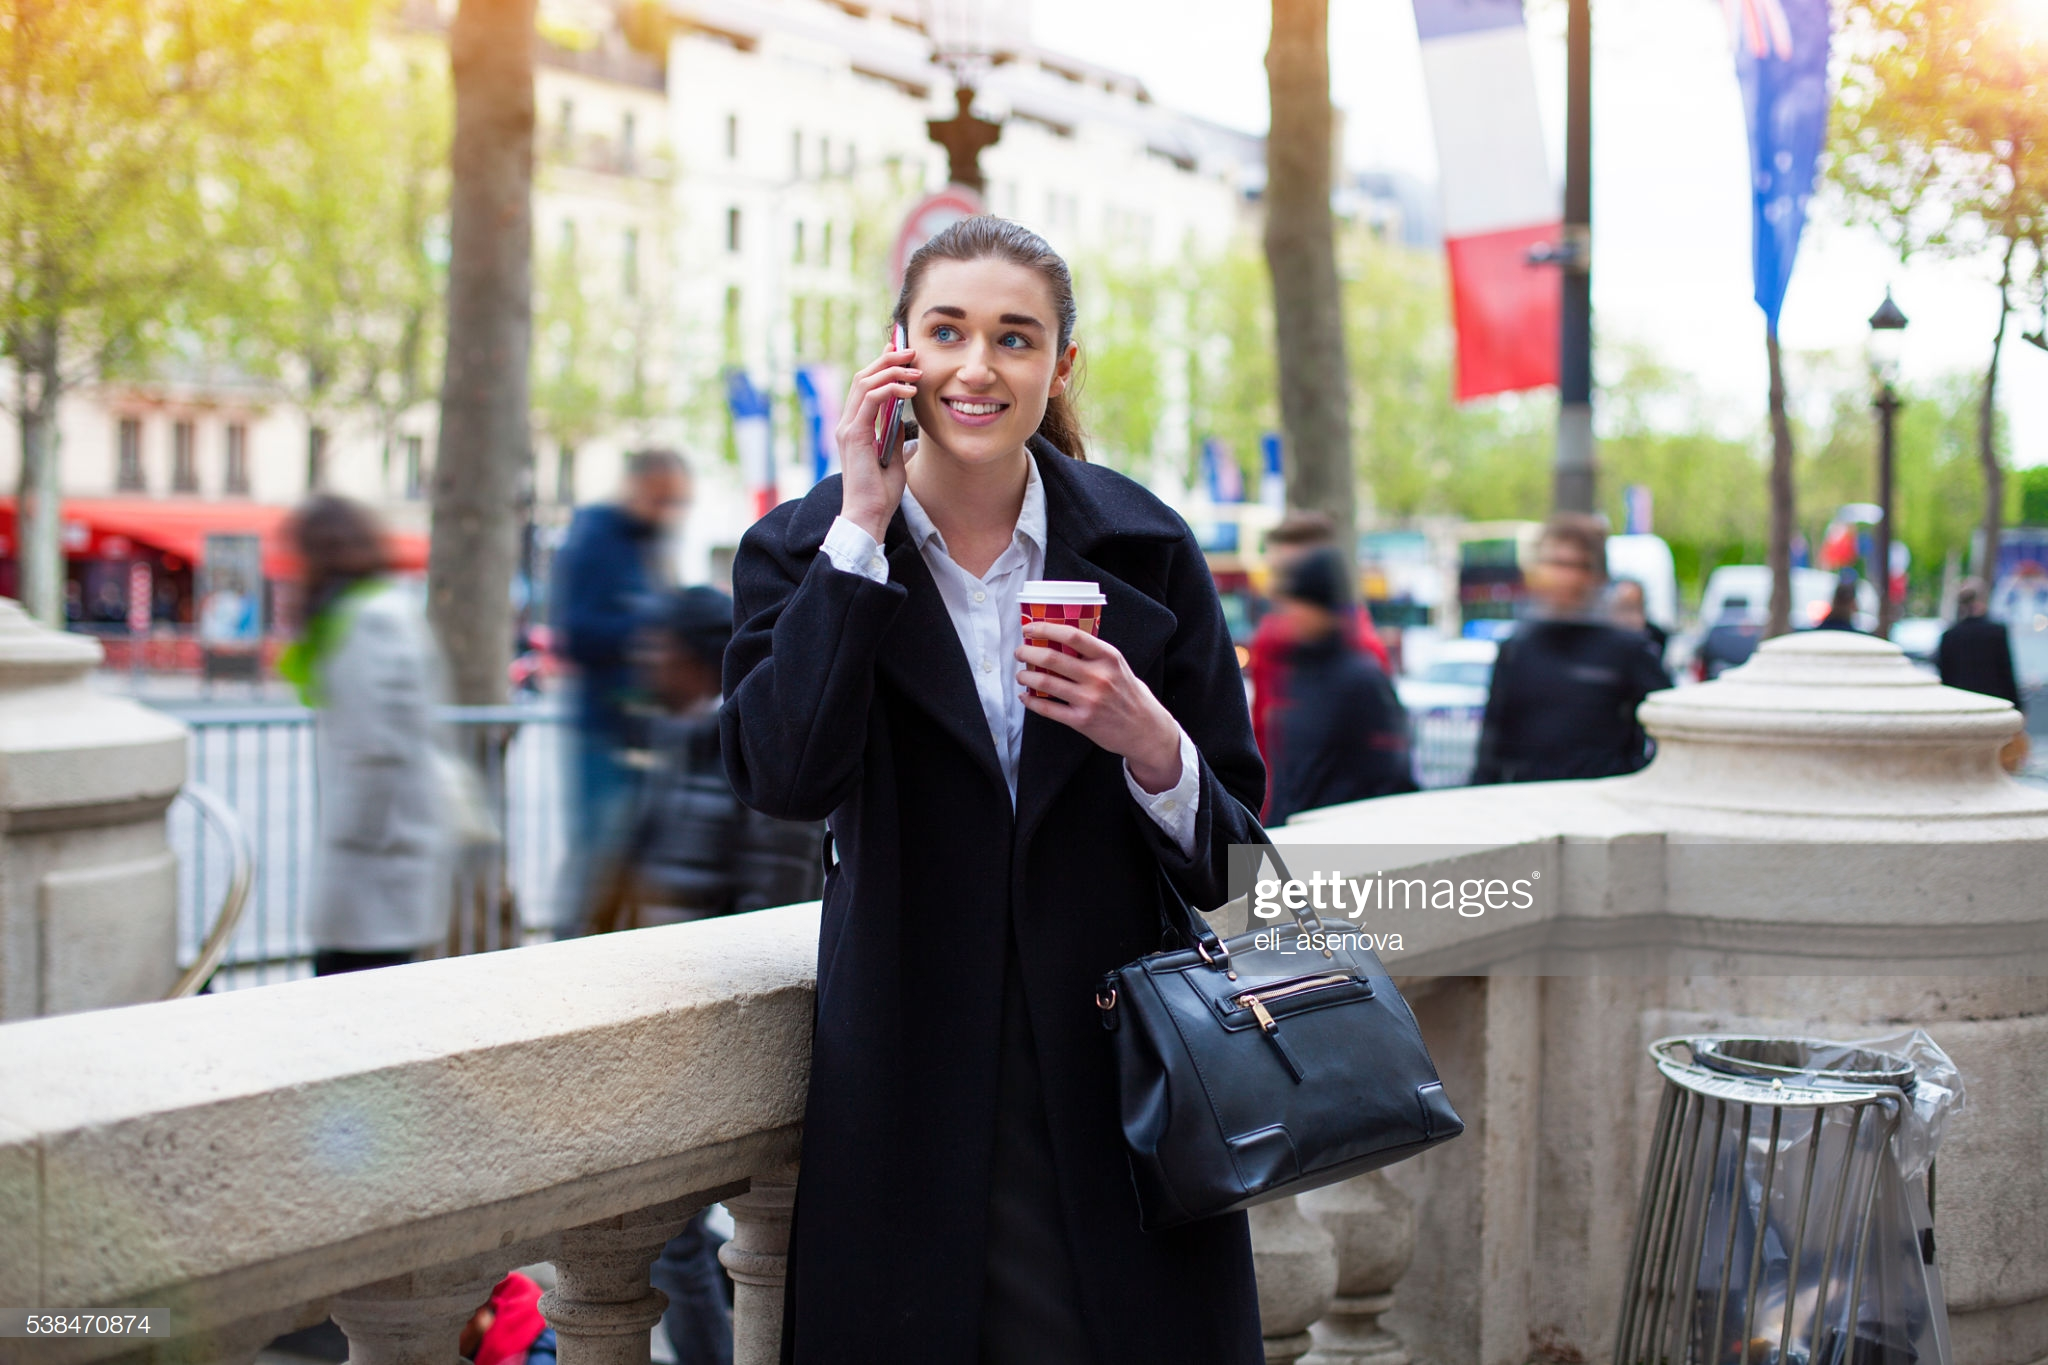phone: (856, 328, 920, 478)
talk: (836, 289, 1049, 497)
